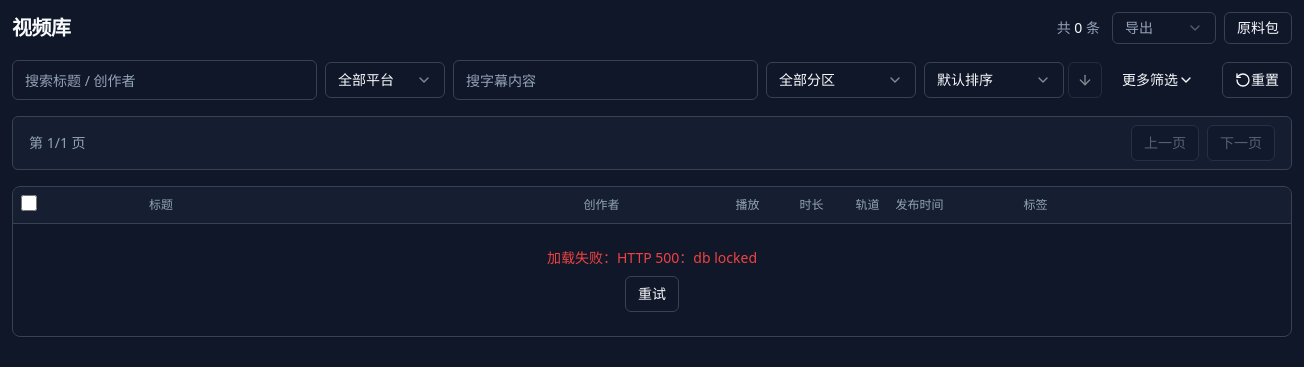
it: 列表 500 → 错误行 + 重试按钮恢复
Expected: the text "加载失败：HTTP 500：db locked" is shown, [547,248,757,266]
Click the button "重试" at (652,294), box [625,276,679,312]
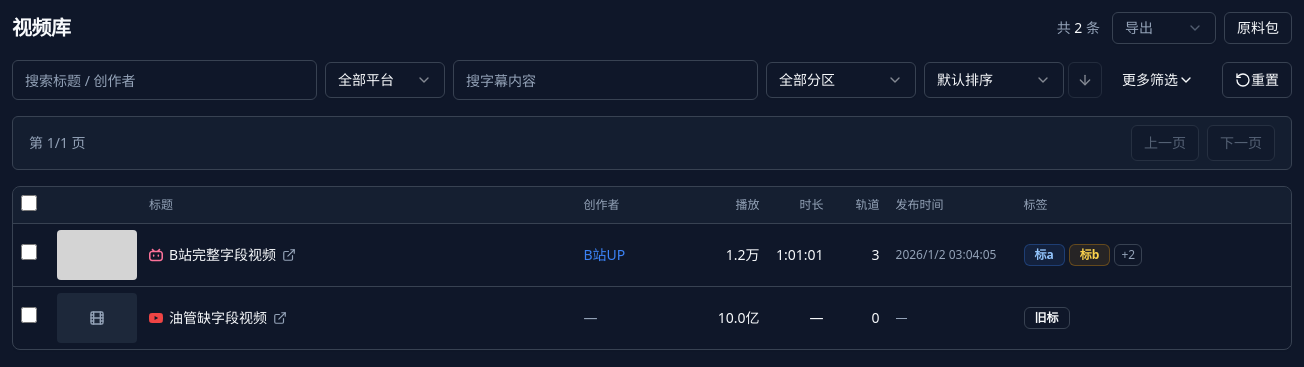
Expected: the text "B站完整字段视频" is shown, [169,244,276,264]
